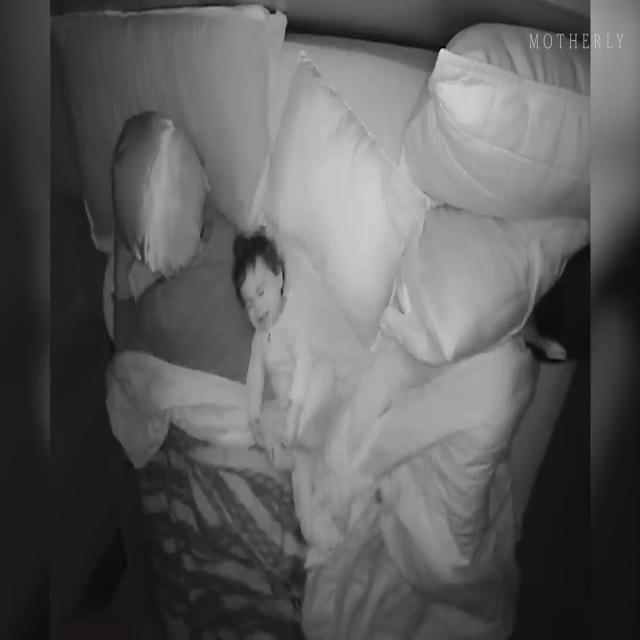baby: (234, 228, 343, 512)
